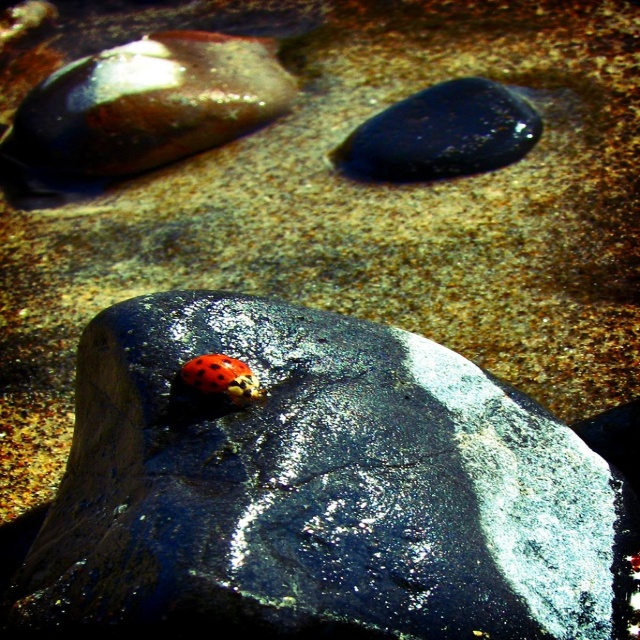Ladybug: (177, 355, 266, 405)
